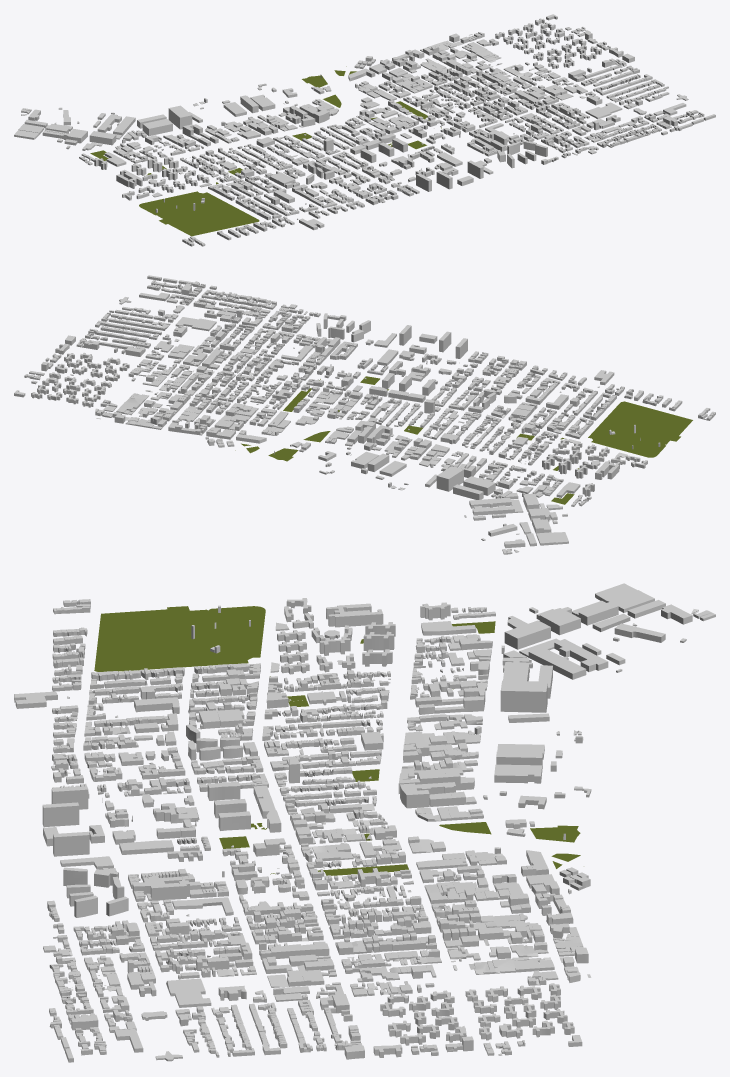
File: area3_lod0-transformed.glb
3 views of the same model, one above another, from view 1: azimuth 30°, elevation 25°; view 2: azimuth 150°, elevation 25°; view 3: azimuth 270°, elevation 25° (orthographic). The views are drawn at different scales.
Visible parts, largest first — view 1: Areas:building.013, Areas:leisure.012; view 2: Areas:building.013, Areas:leisure.012; view 3: Areas:building.013, Areas:leisure.012.
Part boxes in pixels (x1,y1,x2,y2): Areas:building.013: (14,14,715,246); Areas:leisure.012: (90,66,441,236); Areas:building.013: (14,275,715,554); Areas:leisure.012: (235,376,692,504); Areas:building.013: (14,583,715,1062); Areas:leisure.012: (94,606,580,875).
Size of the model in its own units: 3385 by 69.57 by 2109.
